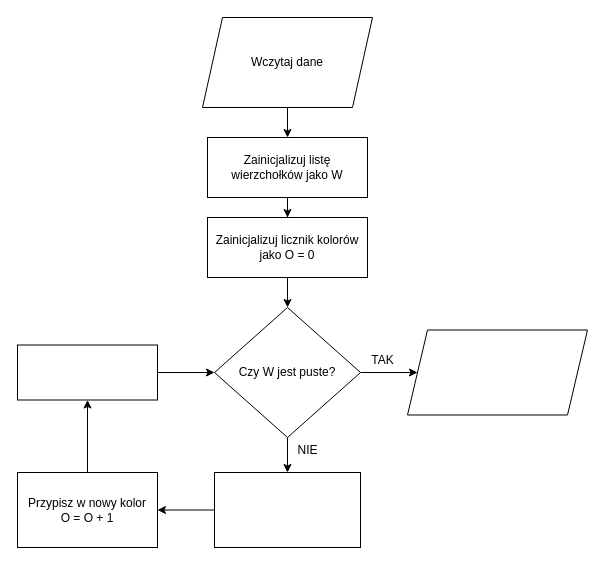
Image size: 605x565. Some labels were removed from this diagram. Here are the shapes that lost their labels. From the top down, the centre of each, then its label:
At (87,372): "Usuń w z W".
At (497,372): "Zwróć listę wierzchołków z kolorami i ich ilość".
At (287,510): "Wybierz wierzchołek w z W o najmniejszym stopniu".
